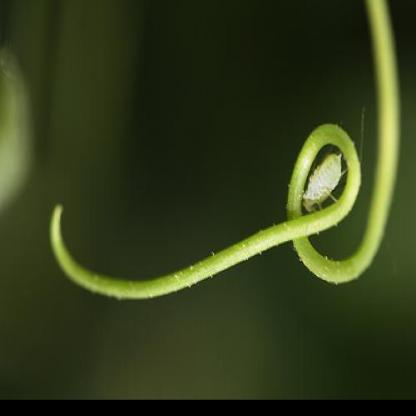aphid: (300, 140, 350, 222)
